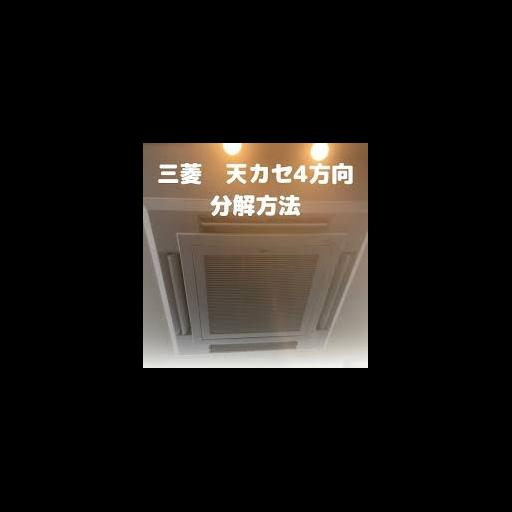4-way-ac: (144, 196, 368, 358)
